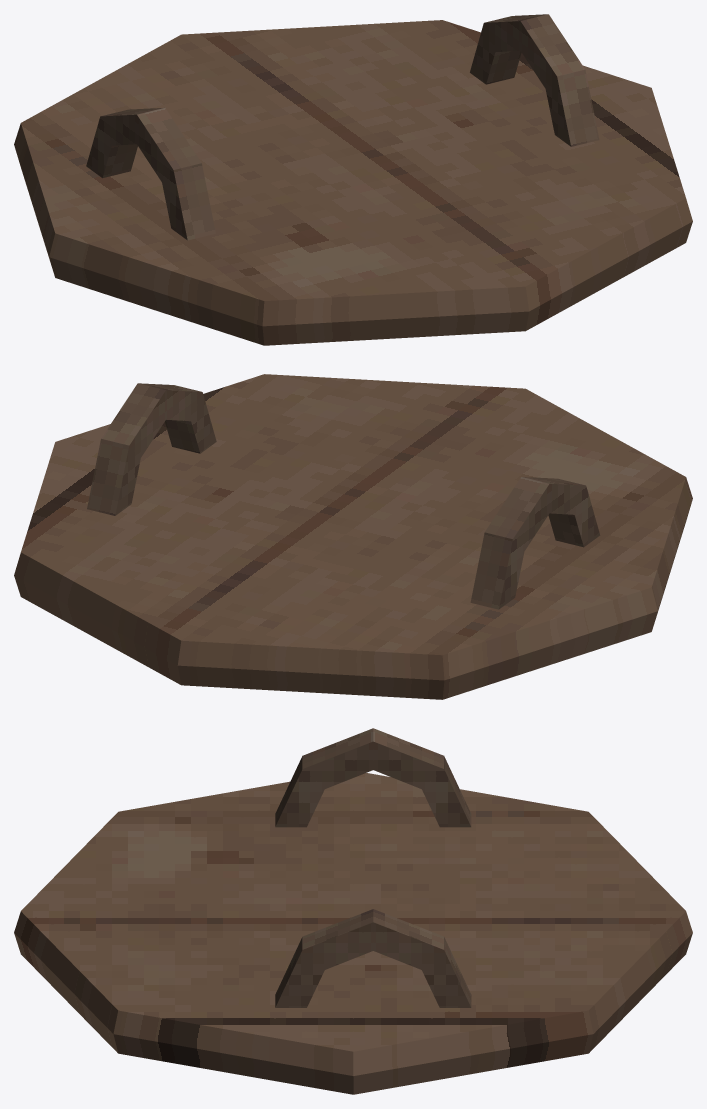
File: barrel_lid_alt.glb
3 views of the same model, one above another, from view 1: azimuth 30°, elevation 25°; view 2: azimuth 150°, elevation 25°; view 3: azimuth 270°, elevation 25° (orthographic). The views are drawn at different scales.
Visible parts, largest first — view 1: barrel_lid_alt; view 2: barrel_lid_alt; view 3: barrel_lid_alt.
Part boxes in pixels (bbox=[...]): barrel_lid_alt: bbox=[14, 14, 692, 345]; barrel_lid_alt: bbox=[14, 374, 692, 699]; barrel_lid_alt: bbox=[14, 728, 692, 1094].
Size of the model in its own units: 0.7669 by 0.1605 by 0.7669.
Materials: 2 (2 with a texture image).
